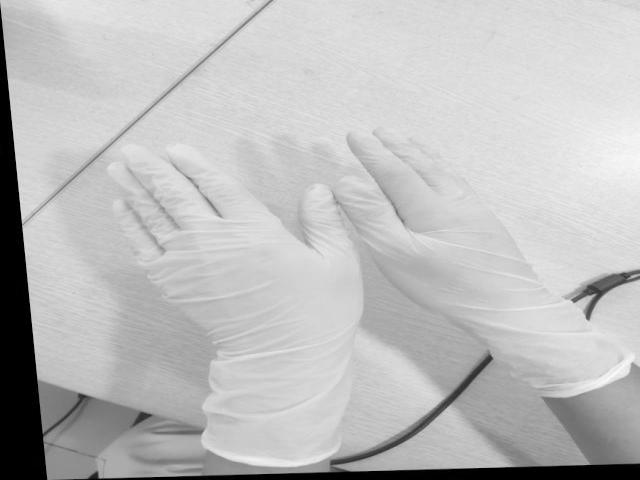gloved: (102, 141, 364, 355), (331, 124, 574, 324)
